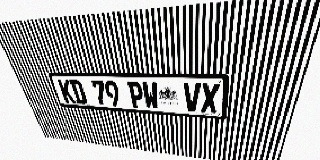7: (90, 80, 109, 106)
9: (103, 81, 122, 107)
D: (69, 80, 88, 104)
K: (57, 79, 76, 104)
P: (127, 81, 145, 108)
V: (183, 83, 201, 112)
W: (142, 82, 159, 109)
X: (201, 83, 220, 113)
